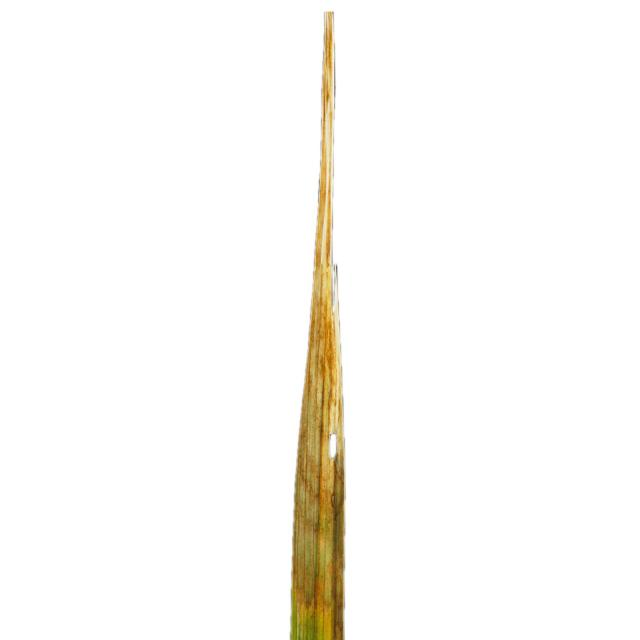Leaf scald: (189, 0, 458, 640)
